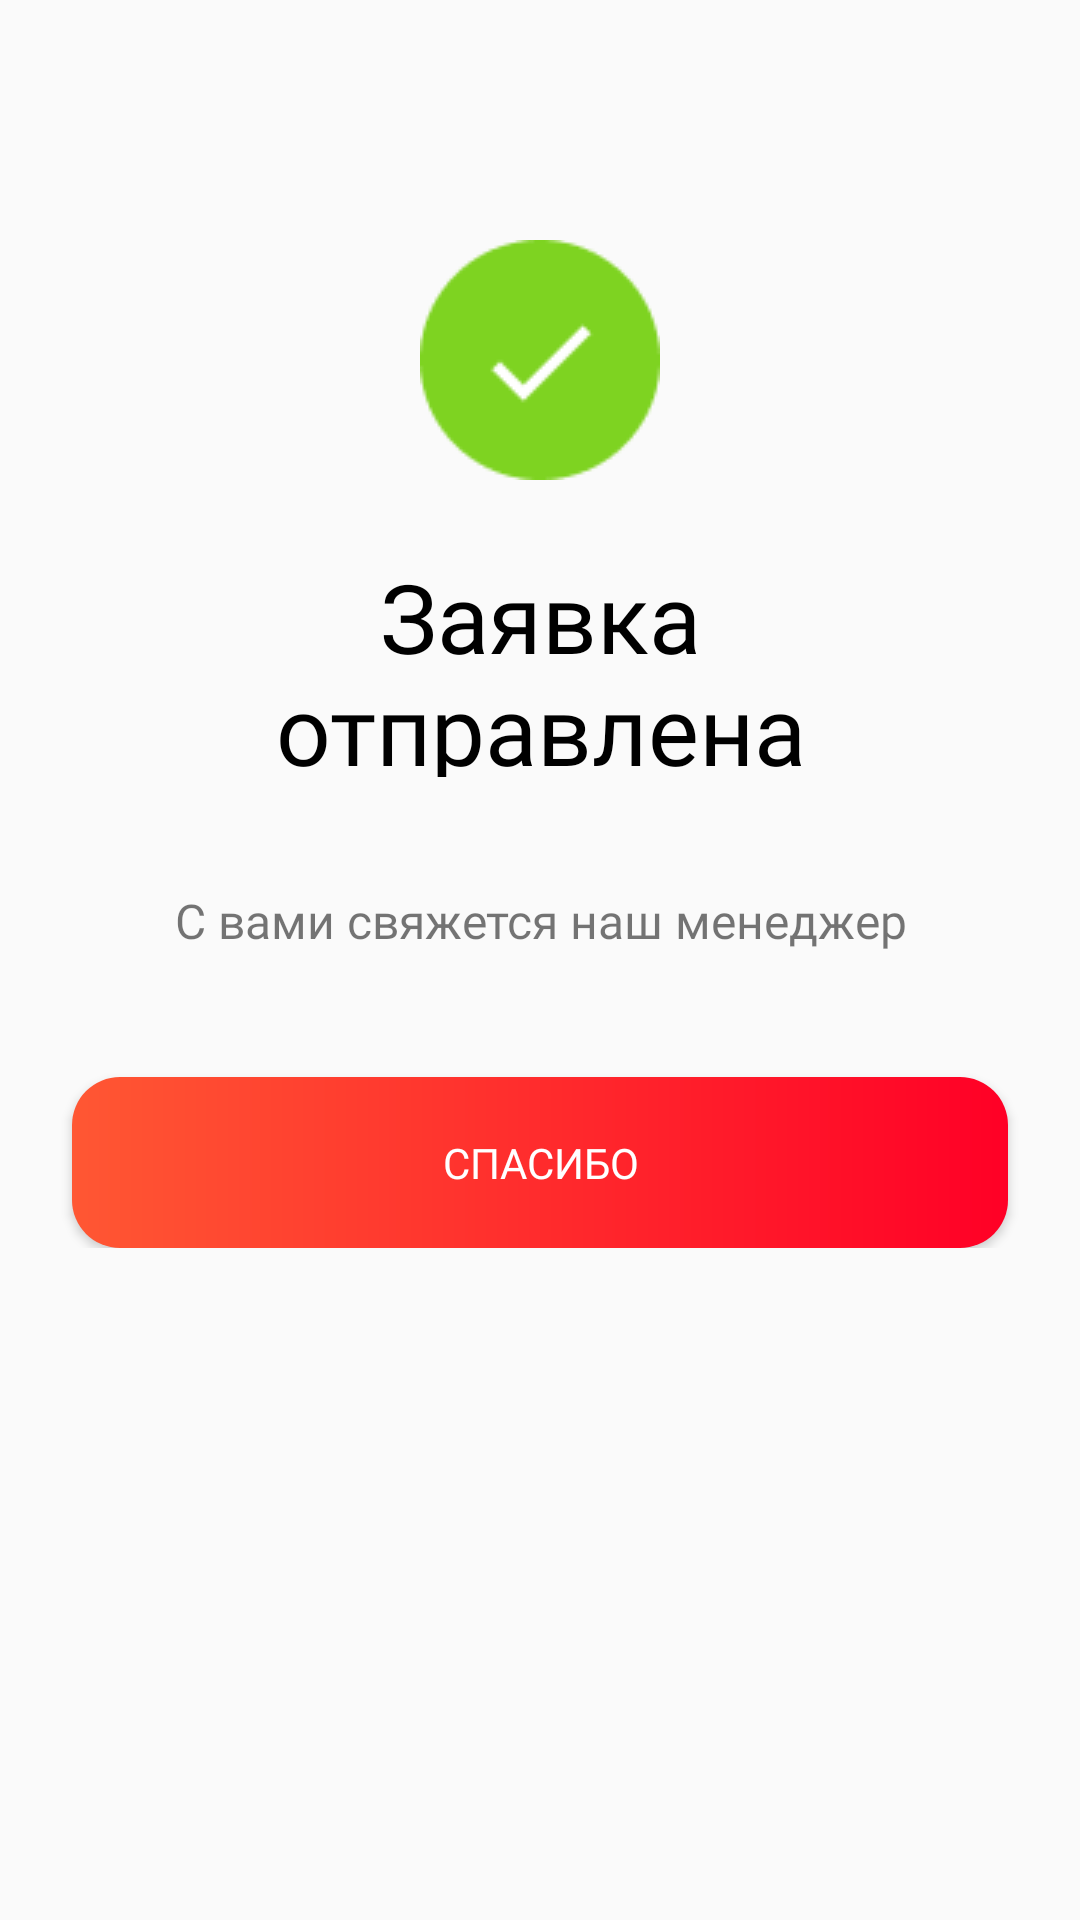

Named icons in this screenshot (1080px×1920px) and their bounding boxes, (x1, y1, x2, y2):
check: (490, 324, 592, 402)
